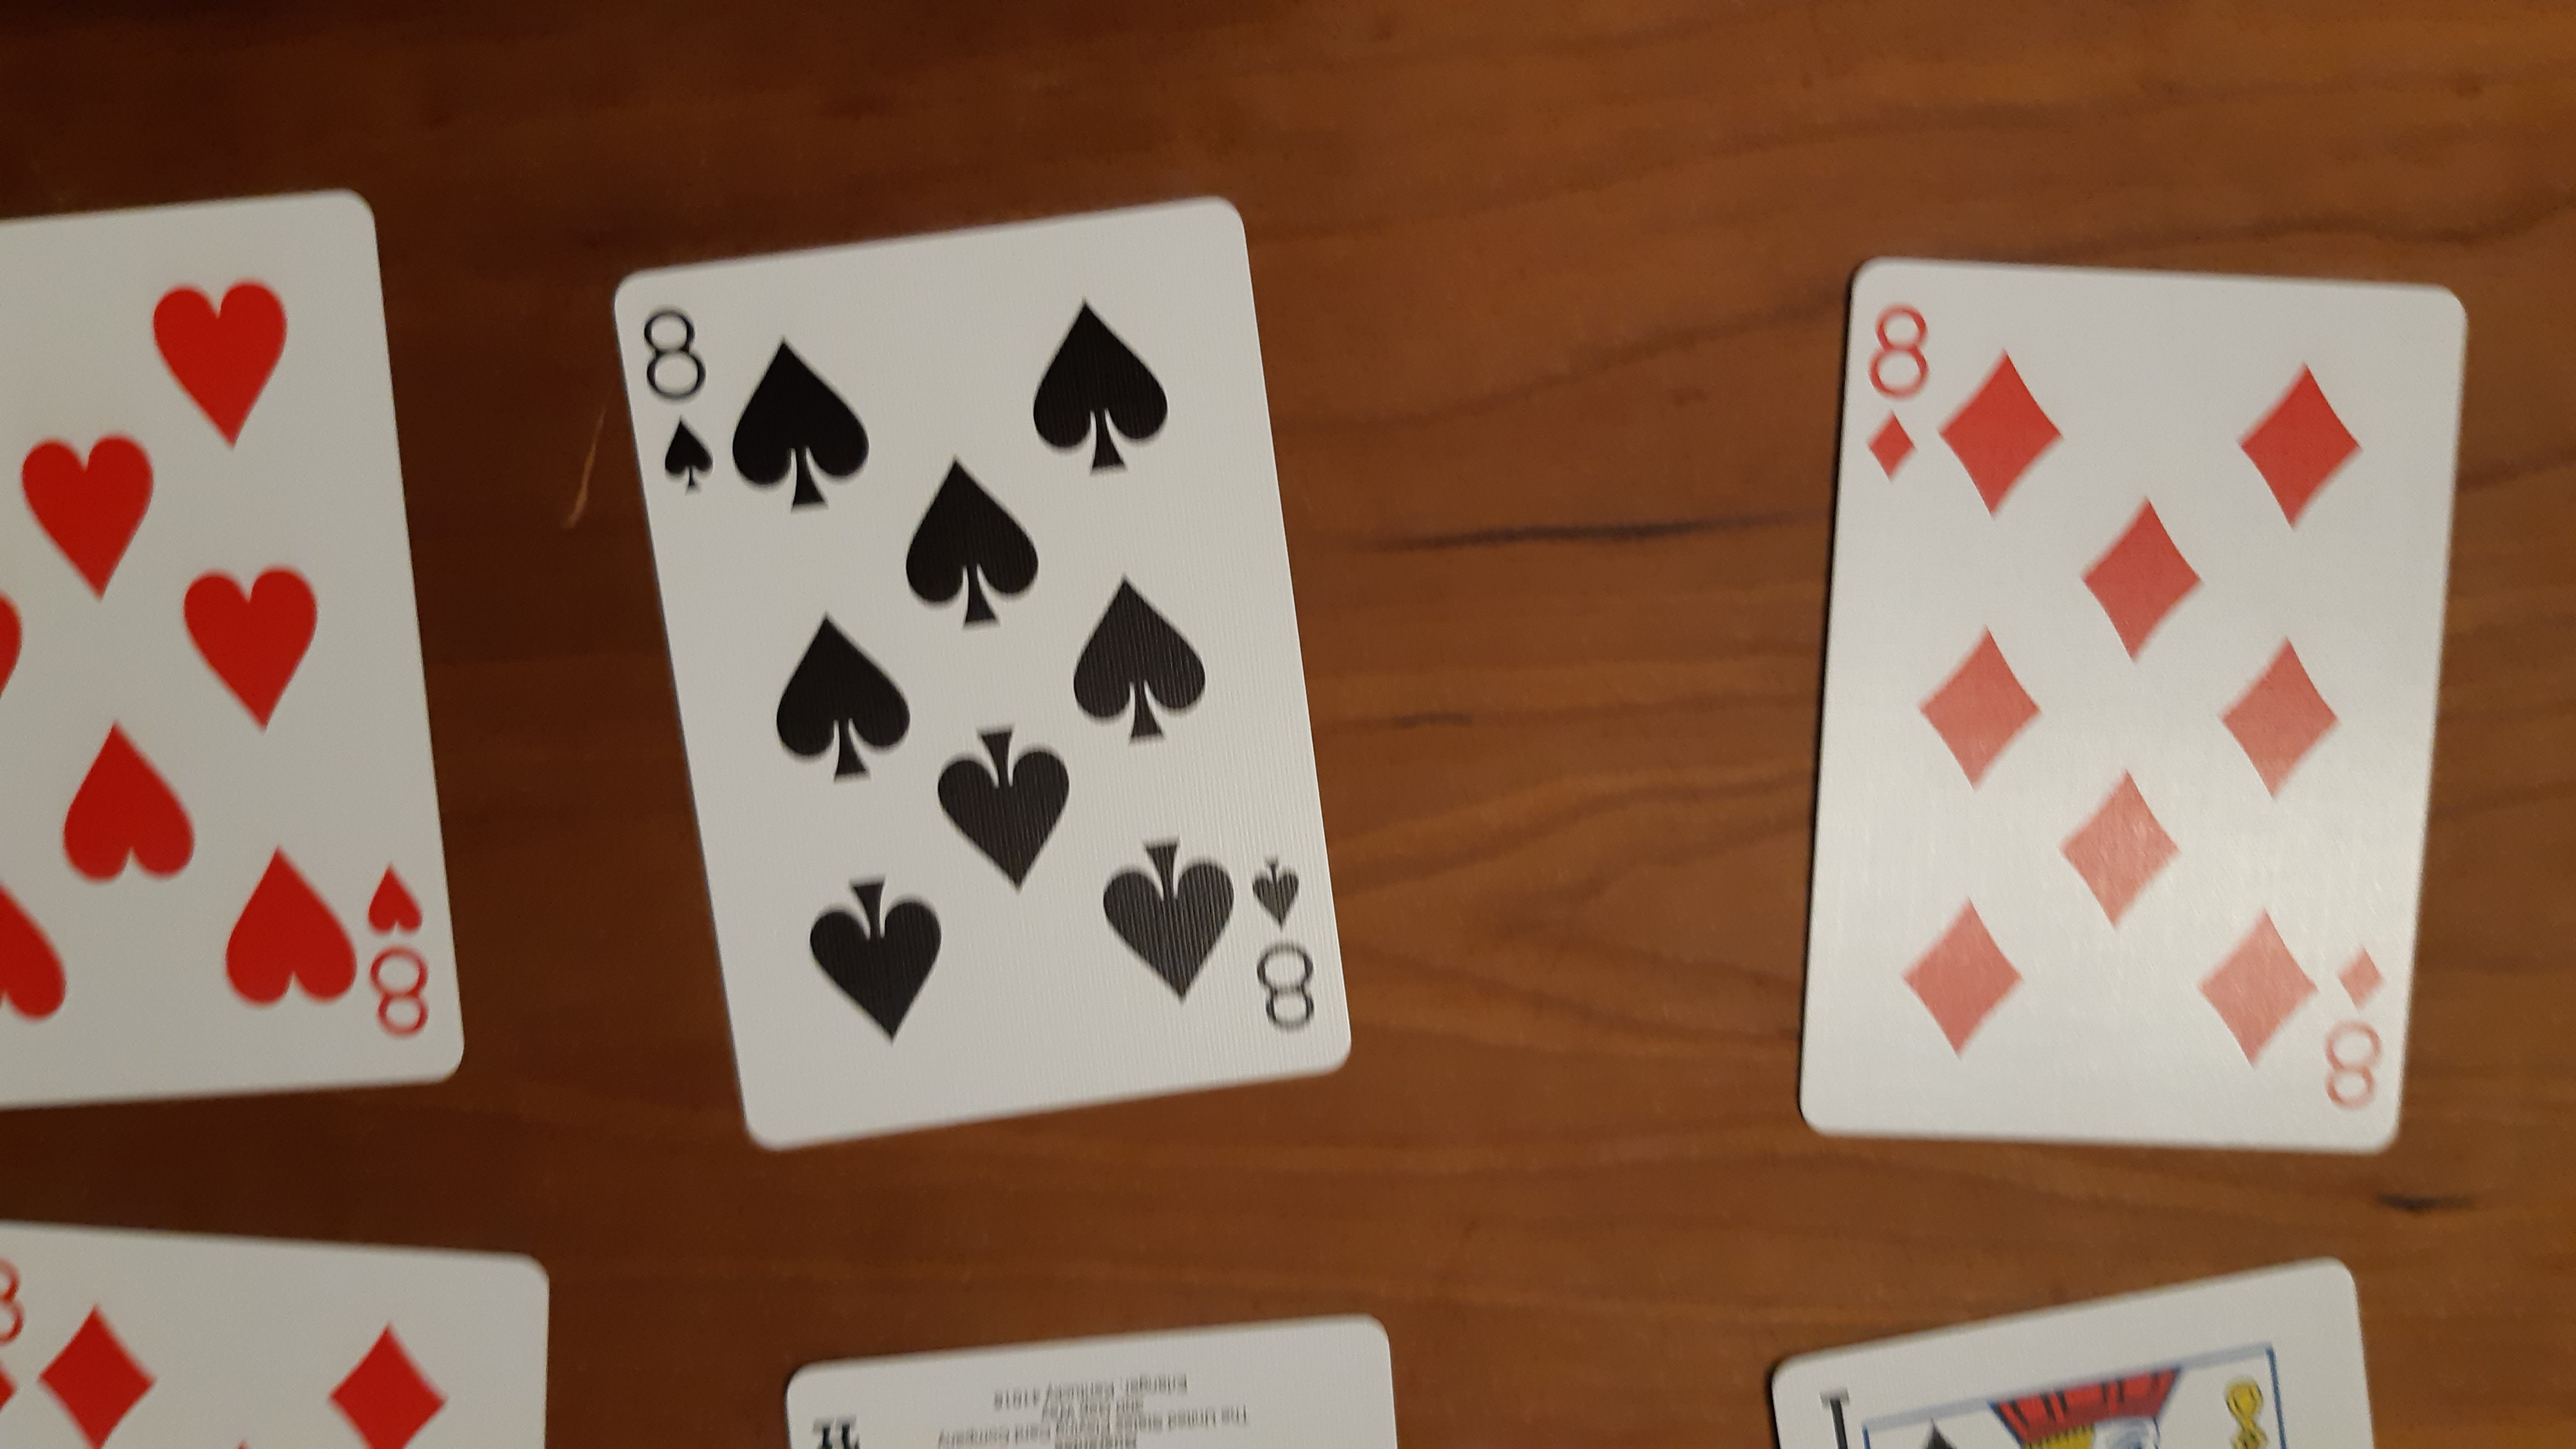Black_Spade_8: (632, 297, 727, 499), (1235, 847, 1334, 1031)
Red_Diamond_8: (1851, 295, 1936, 488), (2321, 941, 2394, 1120)
Red_Heart_8: (364, 858, 444, 1040)
